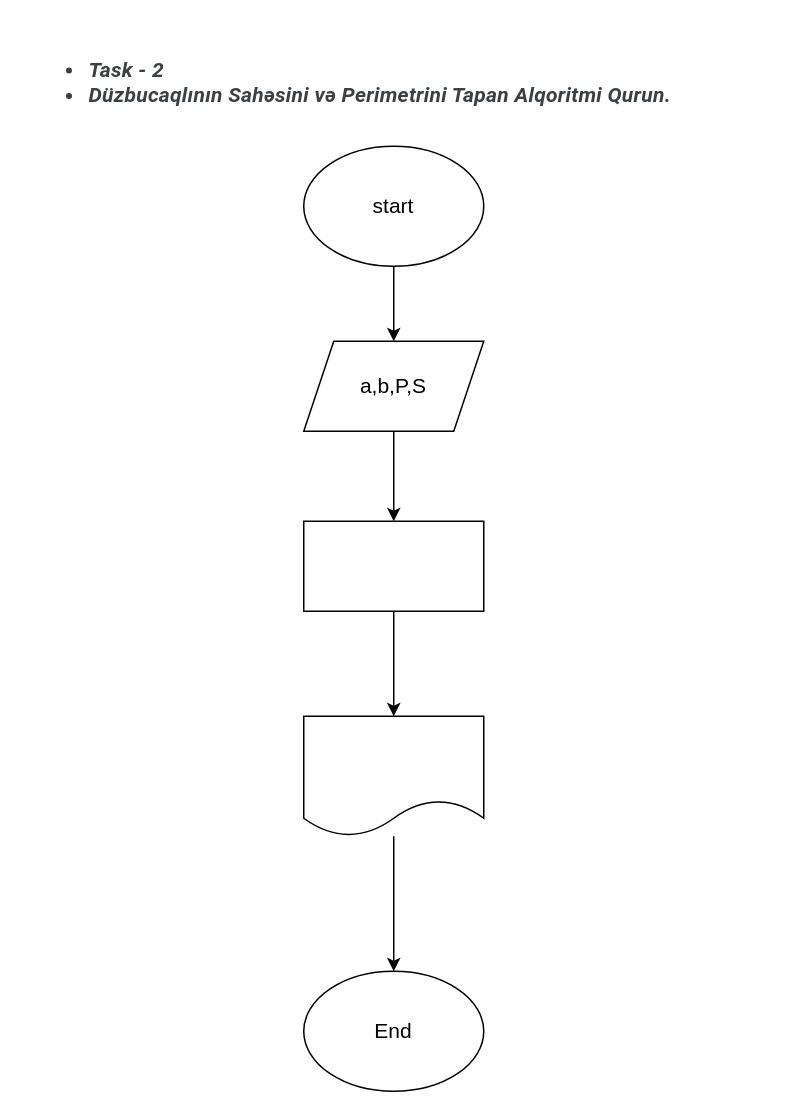
Image size: 786x1118. Some labels were removed from this diagram. Here are the shapes that lost their labels. From the top down, the centre of each, then its label:
At (393,565): "S=a*b P=2*(a+b)".
At (393,775): "Sahəsi S Perimetr P".
